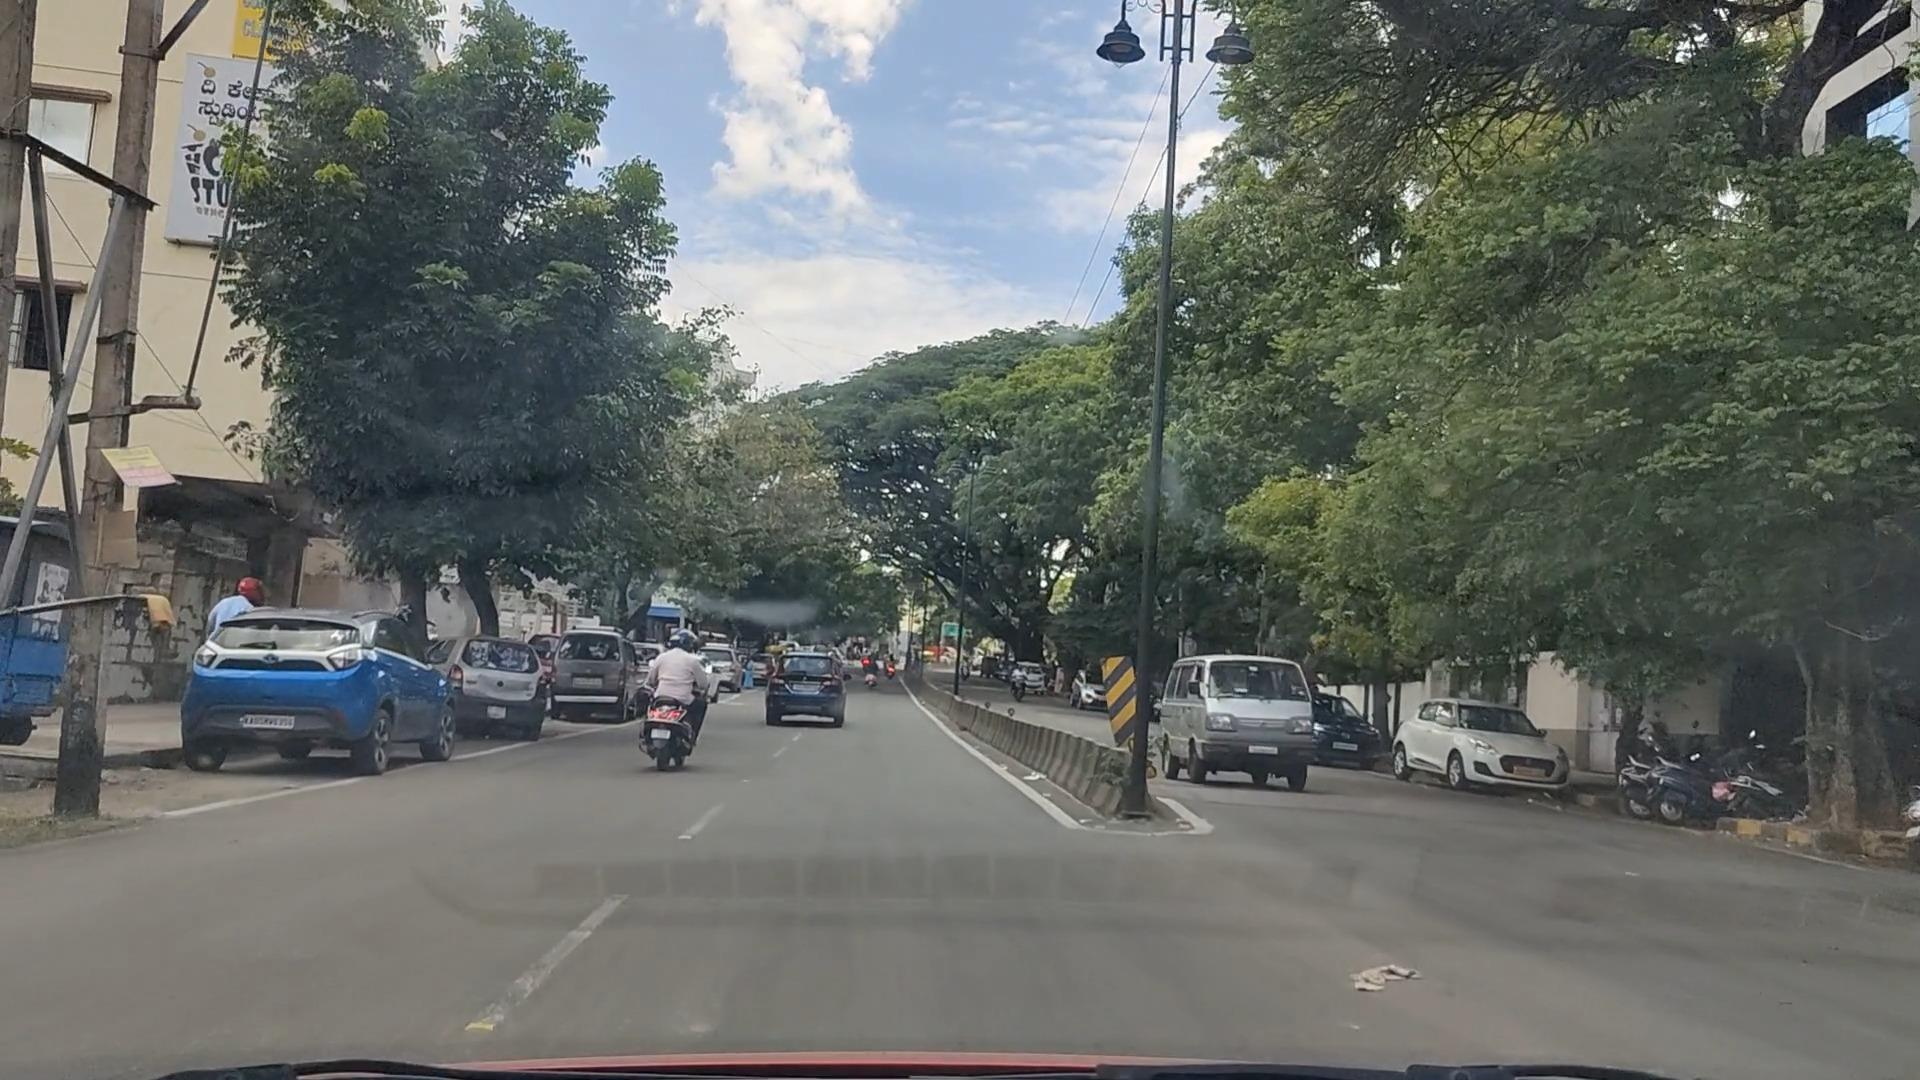LMV: (175, 603, 450, 769)
